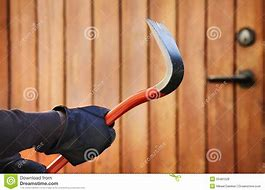crowbar: (45, 17, 186, 175)
